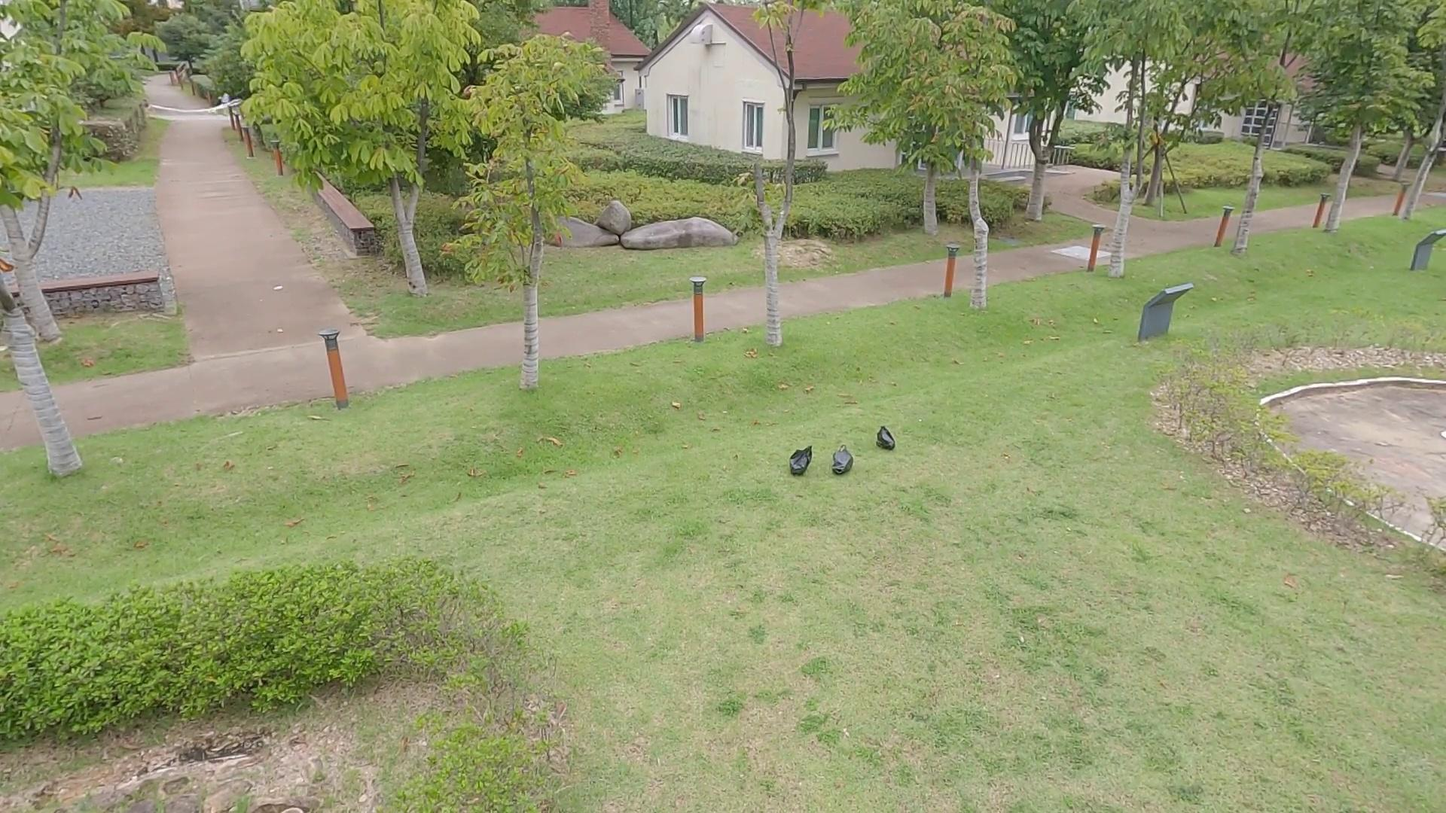trash: (826, 444, 863, 477), (788, 438, 814, 482), (874, 424, 900, 453)
